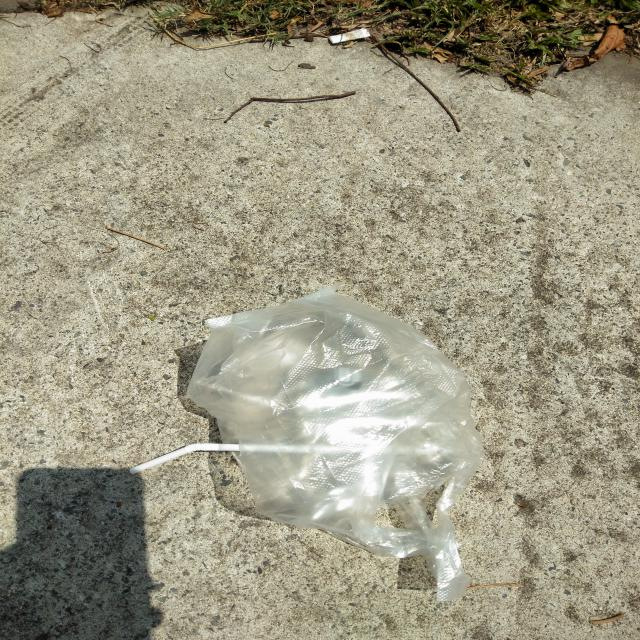Cigarette: (328, 27, 370, 44)
Plastic film: (187, 282, 484, 601)
Plastic straw: (129, 443, 338, 474)
